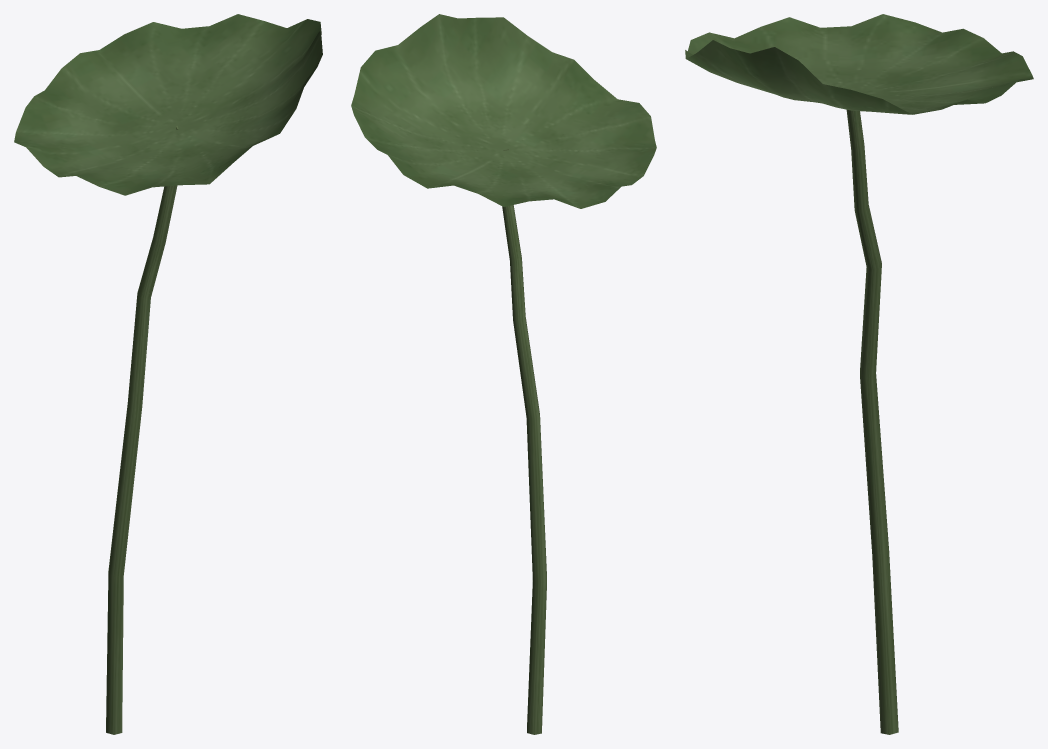
File: lotus_leaf_curled.glb
3 renders of one model, left to right at view 1: azimuth 30°, elevation 25°; view 2: azimuth 150°, elevation 25°; view 3: azimuth 270°, elevation 25°, orthographic. The views are drawn at different scales.
Visible parts, largest first — view 1: lotus_leaf_curled; view 2: lotus_leaf_curled; view 3: lotus_leaf_curled.
Part boxes in pixels (bbox=[...]): lotus_leaf_curled: bbox=[14, 14, 322, 734]; lotus_leaf_curled: bbox=[351, 14, 656, 734]; lotus_leaf_curled: bbox=[685, 14, 1033, 734].
Bounding box in the file's own units: 0.2797 × 0.6633 × 0.2732.
Materials: 1 (1 with a texture image).
